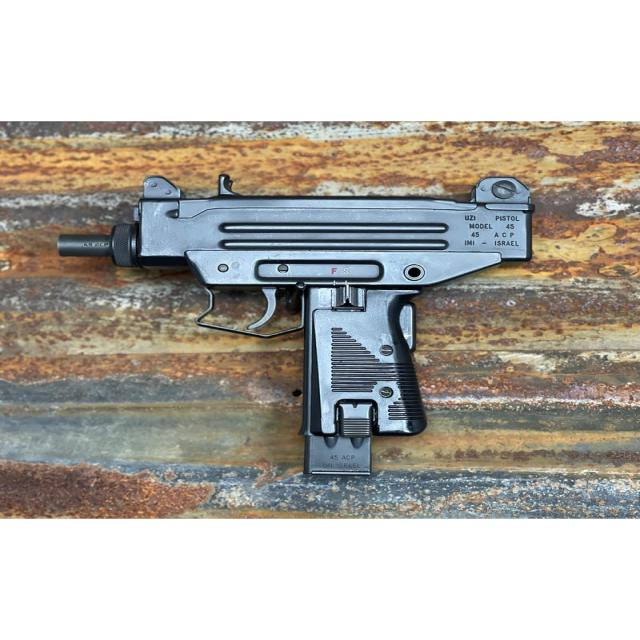SMG: (67, 176, 534, 475)
